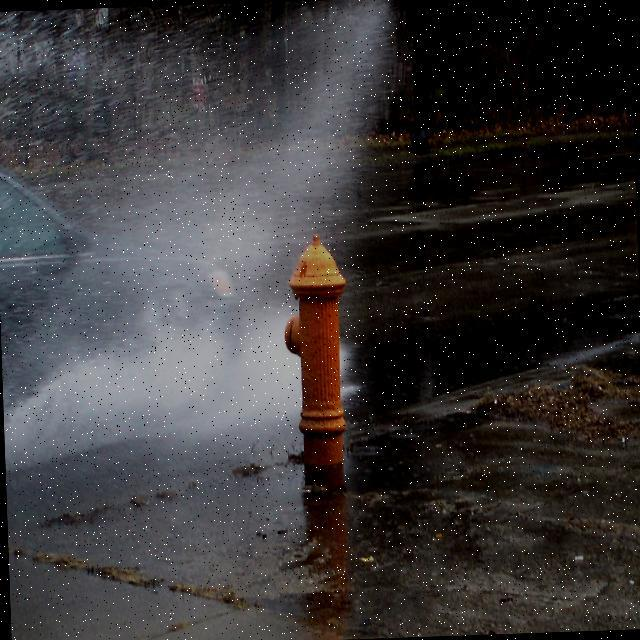fire_hydrant: (279, 231, 355, 469)
